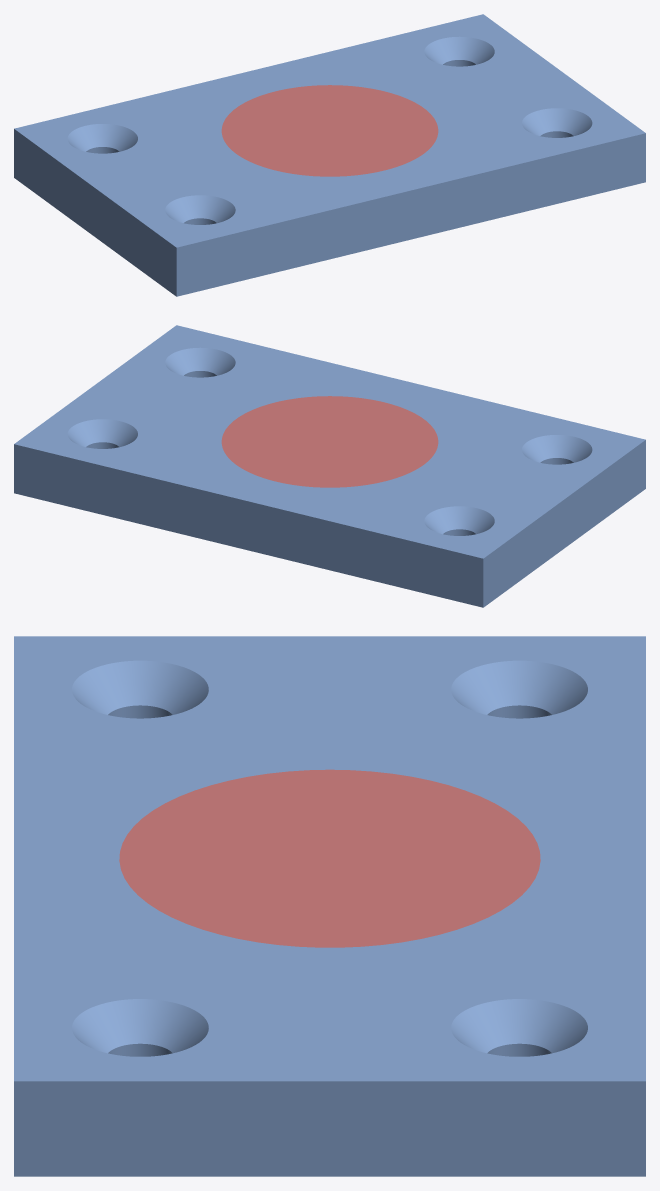
The model's file is step_05.glb.
3 renders of one model, top to bottom at view 1: azimuth 30°, elevation 25°; view 2: azimuth 150°, elevation 25°; view 3: azimuth 270°, elevation 25°, orthographic. The views are drawn at different scales.
Visible parts, largest first — view 1: part__annotation plate, removed__annotation plate; view 2: part__annotation plate, removed__annotation plate; view 3: part__annotation plate, removed__annotation plate.
Part boxes in pixels (x1,y1,x2,y2): part__annotation plate: [14, 14, 645, 296]; removed__annotation plate: [221, 85, 438, 176]; part__annotation plate: [14, 325, 645, 607]; removed__annotation plate: [221, 396, 438, 487]; part__annotation plate: [14, 636, 645, 1176]; removed__annotation plate: [119, 769, 540, 947].
Bounding box in the file's own units: 100 × 10 × 60.
